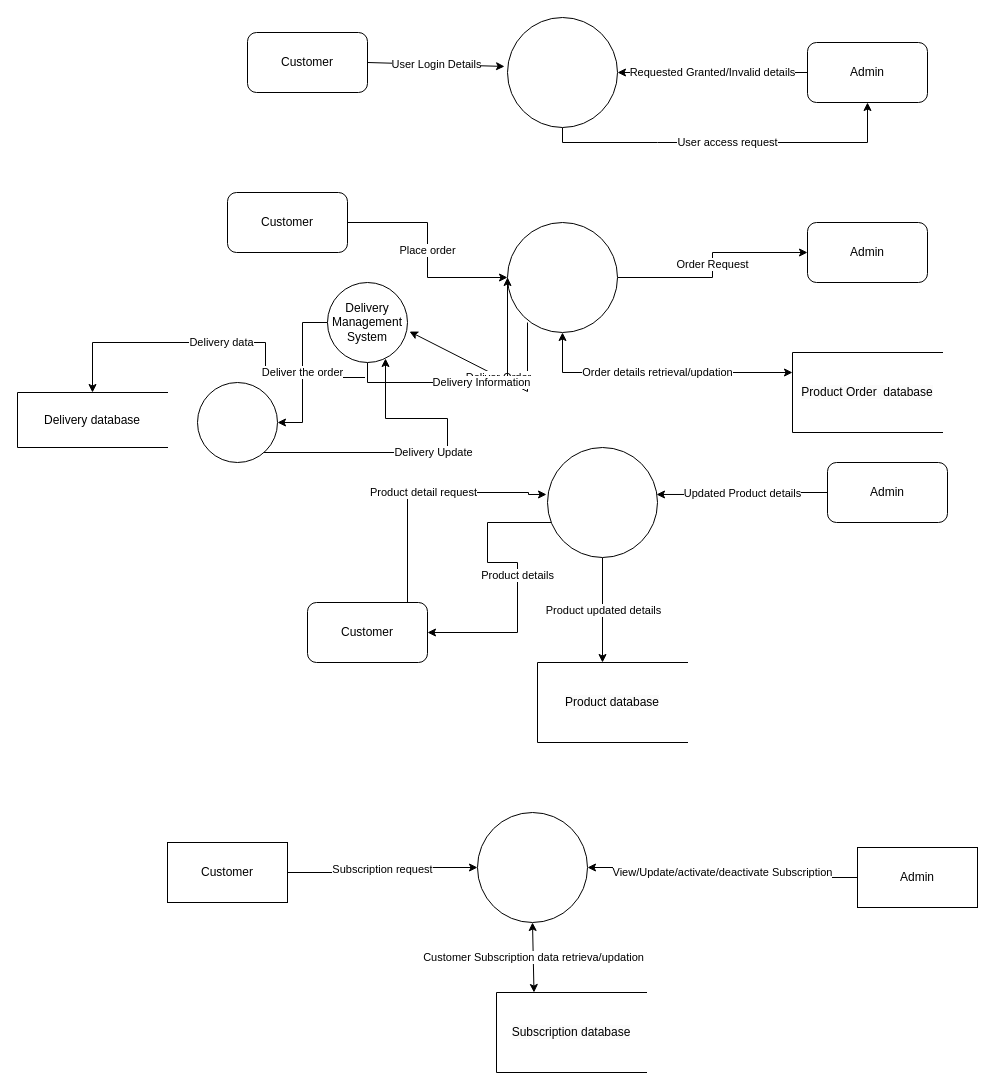
Some shapes in this 995 by 1090 pixel diagram are drawn without their labels. The box of each missing label's shape, as (x1, y1, x2, y2) in pixels:
Order Delivery: (196, 382, 278, 462)
Order management System: (506, 222, 618, 332)
Product Management System: (546, 446, 658, 558)
Subscription Management System: (476, 812, 588, 922)
User Management System: (506, 16, 618, 128)
